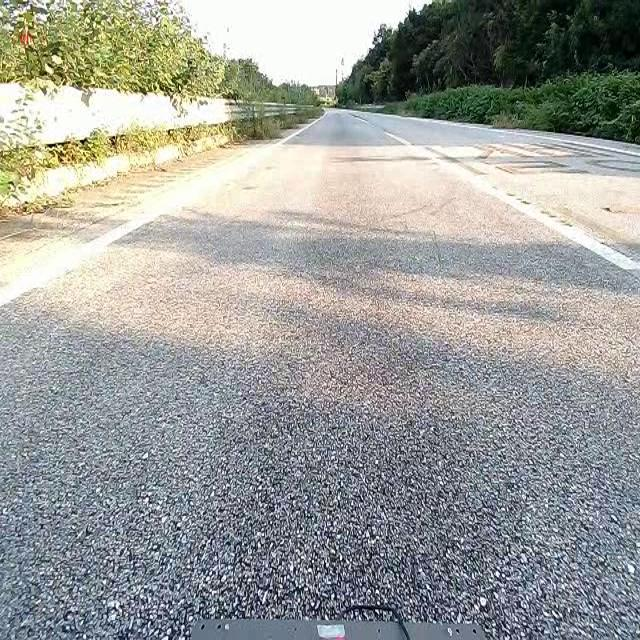Lane: (383, 121, 639, 280), (386, 132, 639, 271), (0, 198, 181, 309), (0, 202, 181, 307)
